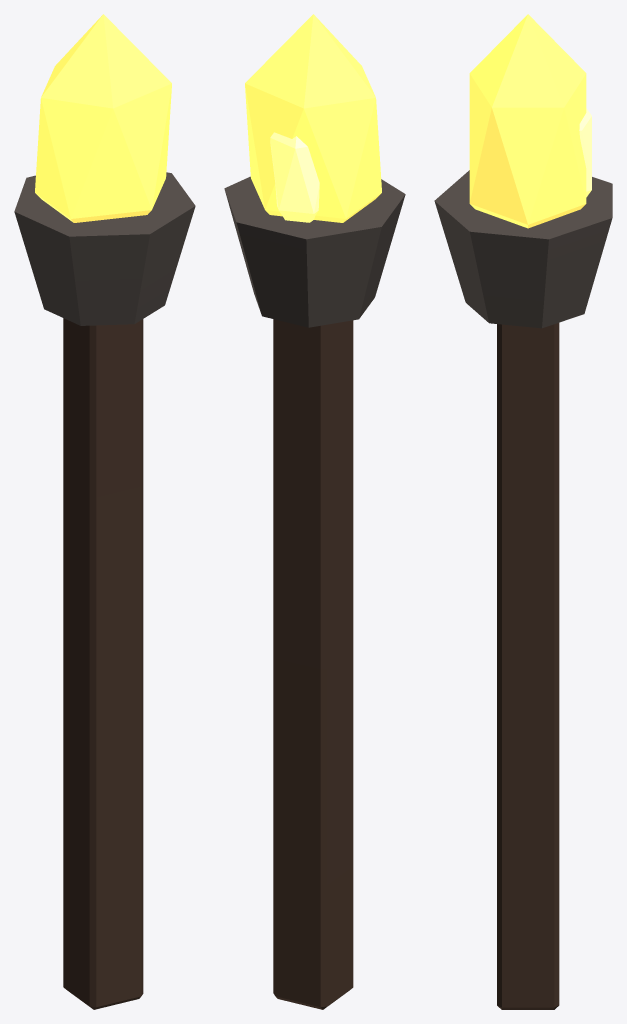
Rendered from BM_Torch.glb.
3 renders of one model, left to right at view 1: azimuth 30°, elevation 25°; view 2: azimuth 150°, elevation 25°; view 3: azimuth 270°, elevation 25°, orthographic.
Visible parts, largest first — view 1: BM_Torch__Body, BM_Torch__Flame; view 2: BM_Torch__Body, BM_Torch__Flame; view 3: BM_Torch__Body, BM_Torch__Flame.
Boxes of the visible parts, x1,y1,x2,y2 form: BM_Torch__Body: [14, 172, 195, 1009]; BM_Torch__Flame: [35, 14, 171, 222]; BM_Torch__Body: [224, 176, 405, 1009]; BM_Torch__Flame: [245, 14, 381, 222]; BM_Torch__Body: [434, 170, 612, 1009]; BM_Torch__Flame: [469, 14, 591, 228].
Bounding box in the file's own units: 1.46 × 8.7 × 1.43.
